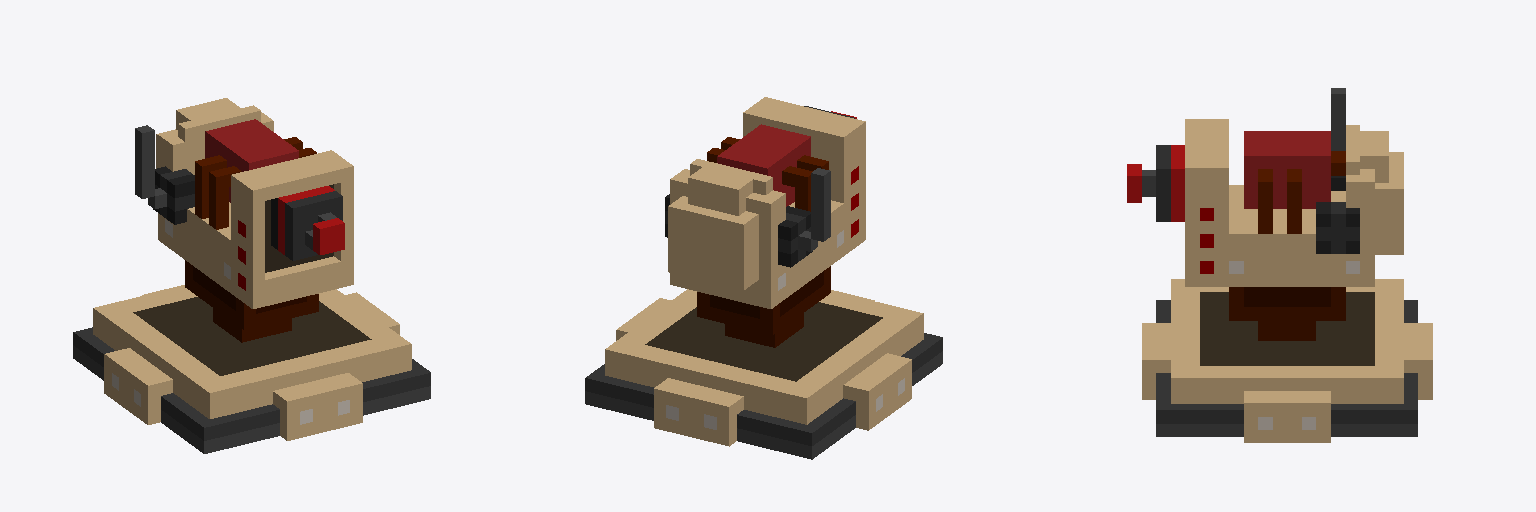
The picture shows the model from 3 angles: view 1: azimuth 30°, elevation 25°; view 2: azimuth 150°, elevation 25°; view 3: azimuth 270°, elevation 25°; orthographic projection.
Visible parts, largest first — view 1: object 1; view 2: object 1; view 3: object 1.
Part boxes in pixels (x1,y1,x2,y2): object 1: (73, 98, 430, 453); object 1: (585, 97, 942, 459); object 1: (1127, 88, 1432, 442).
Size of the model in its own units: 2 by 1.9 by 2.1.
1 materials, 1 textured.